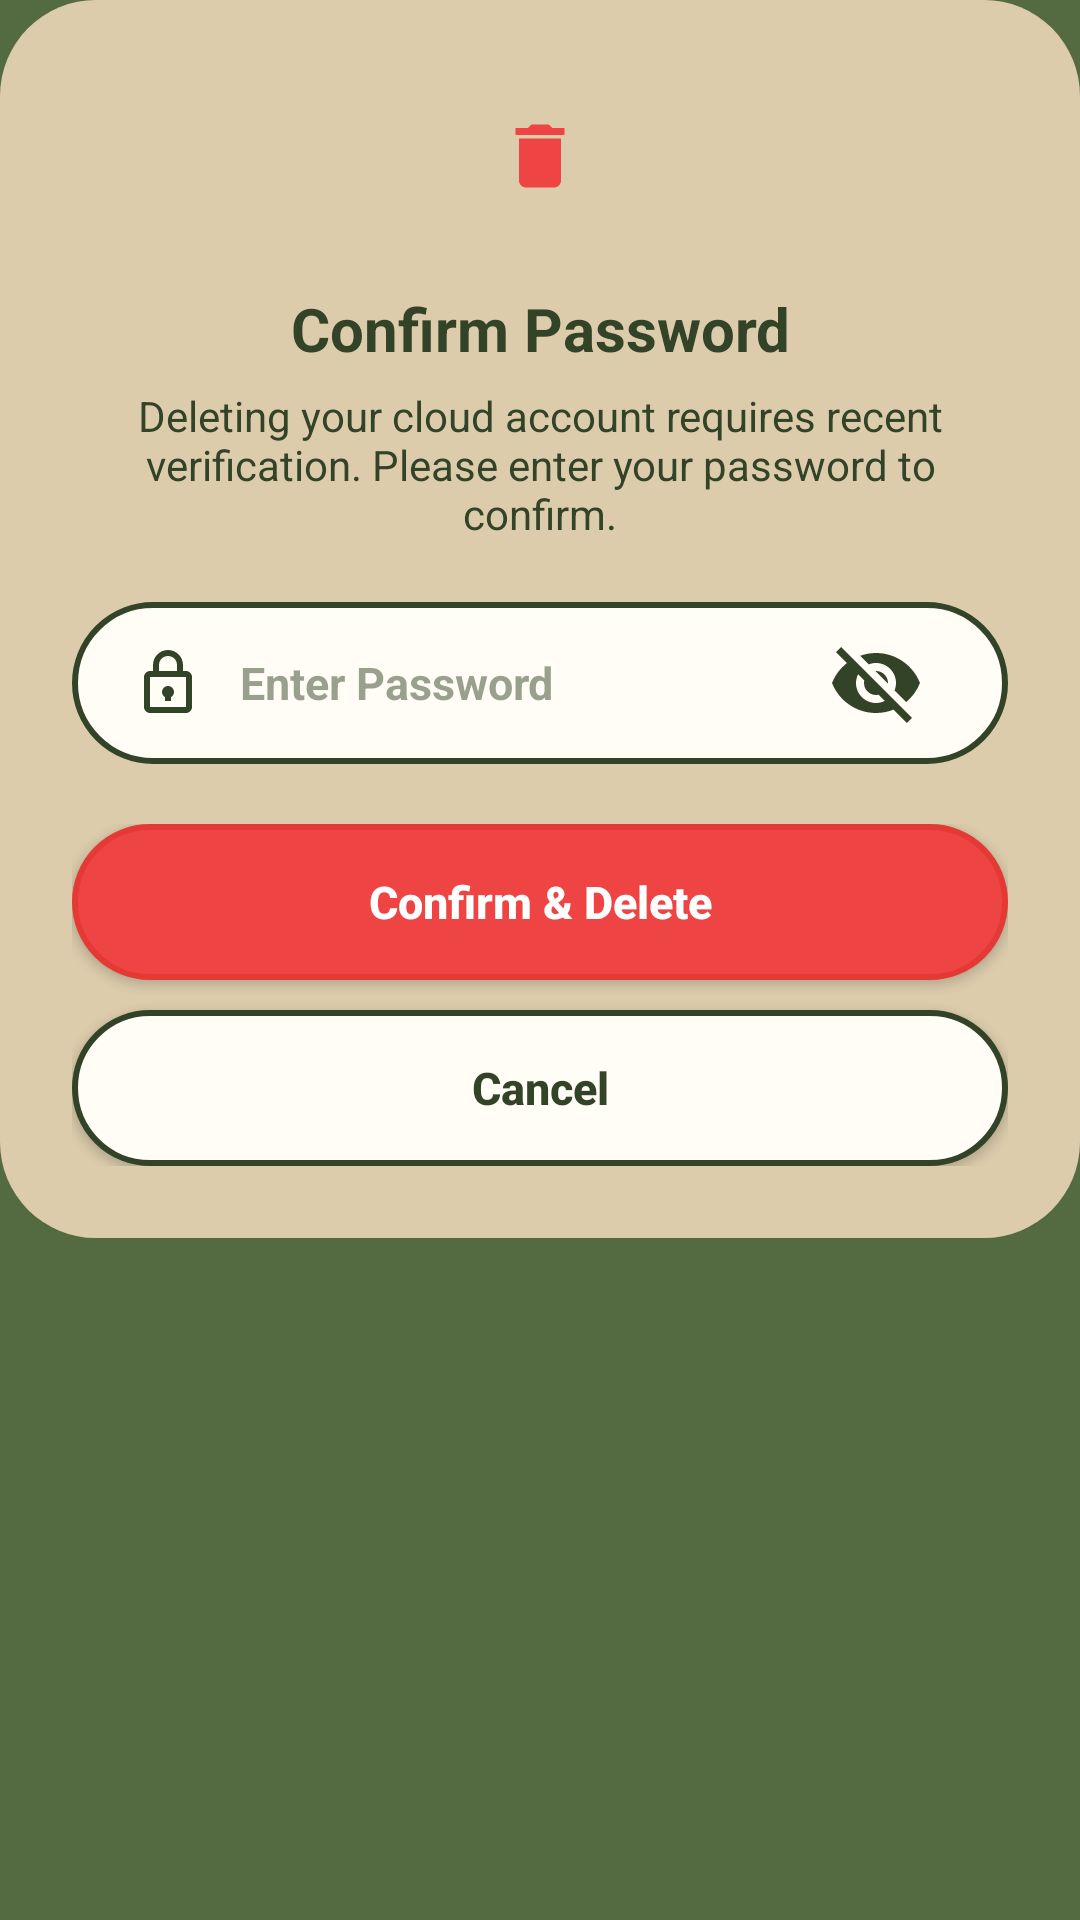

Where to tap for icons on this 1080px x 1920px app screen, as (x=x, y=y):
Delete Icon: (x=540, y=156)
Lock Icon: (x=168, y=681)
Toggle Password Visibility: (x=876, y=685)
